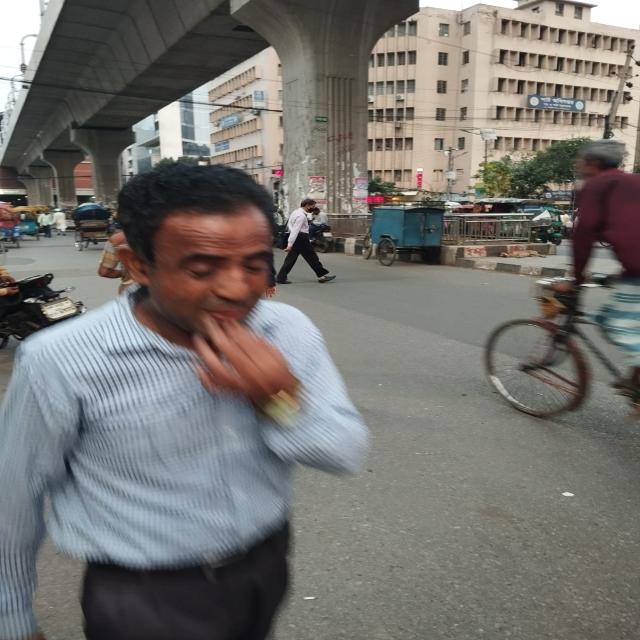person: (0, 164, 369, 640), (276, 198, 336, 284)
